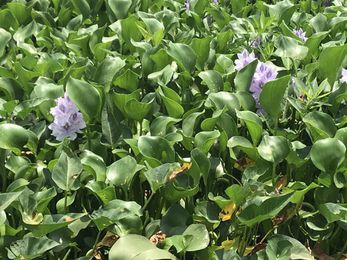water_hyacinth: (0, 43, 347, 260)
